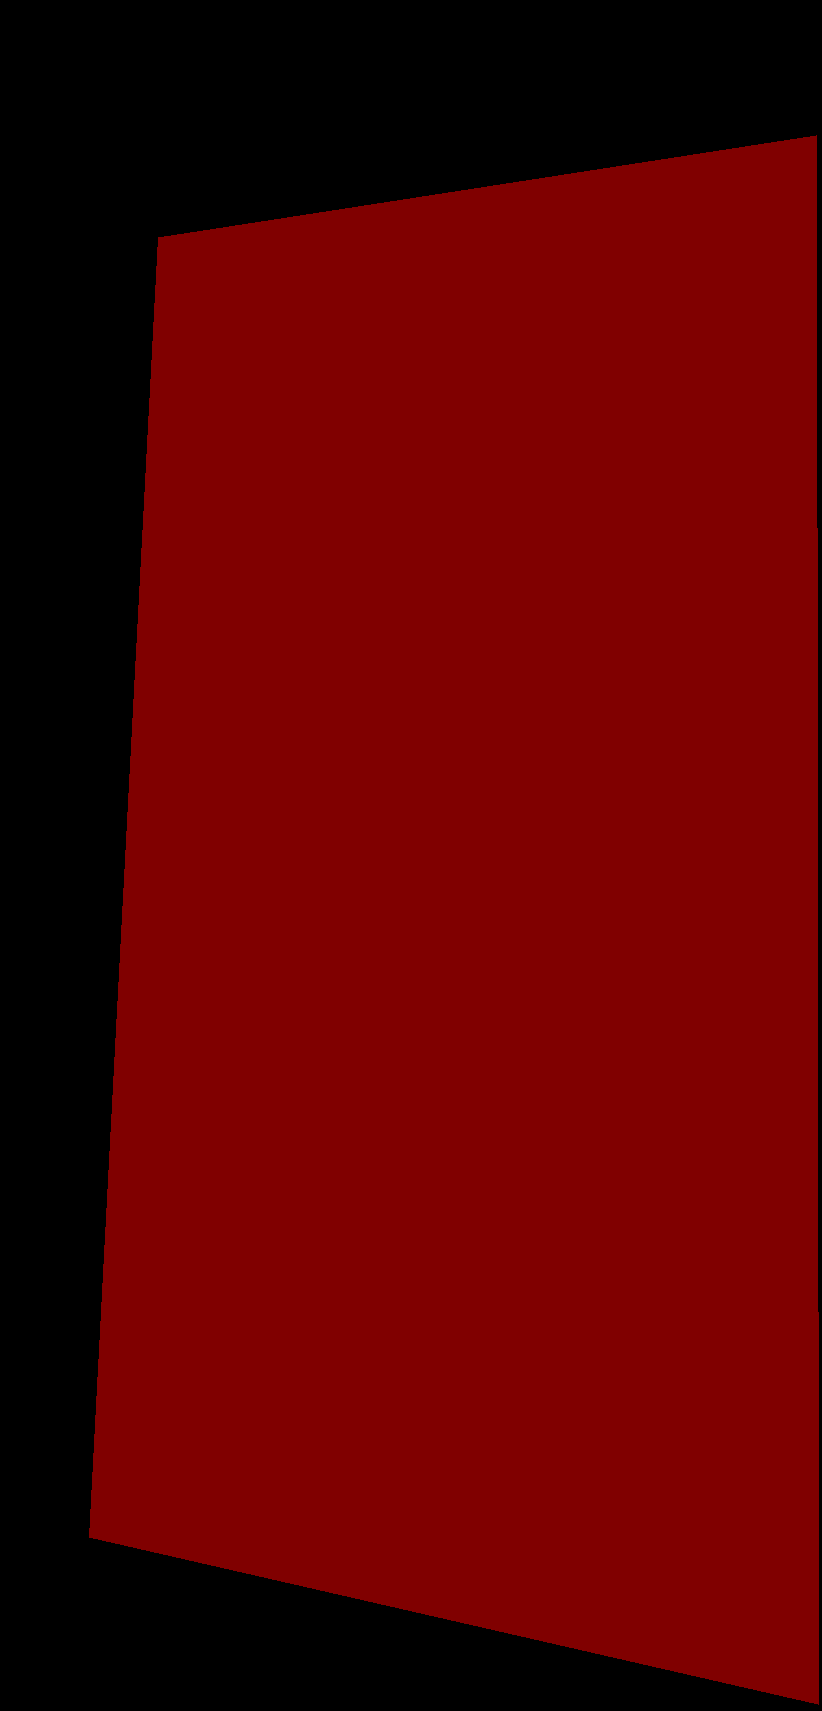sign: (90, 135, 818, 1704)
